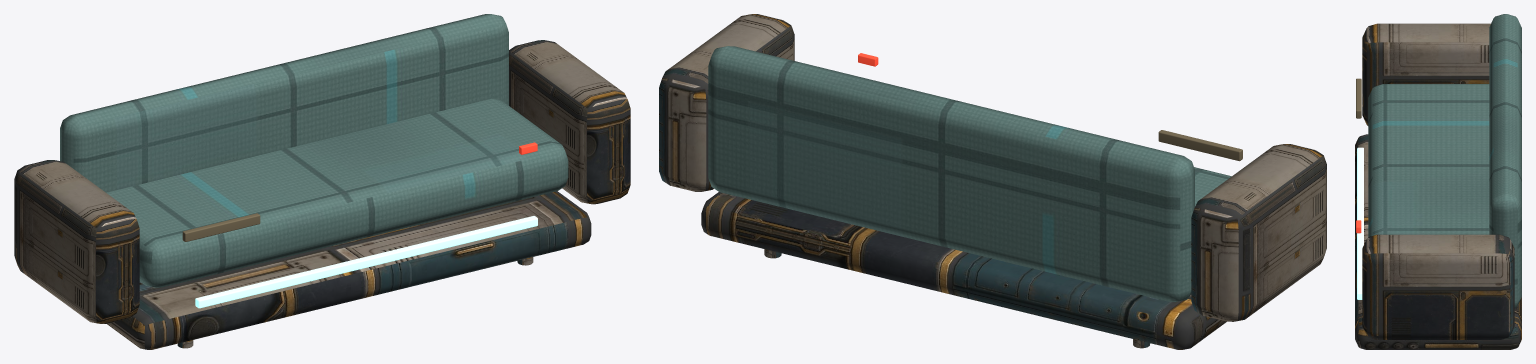
Rendered from hp_room_lounge_sofa_residential.glb.
3 views of the same model, side by side, from view 1: azimuth 30°, elevation 25°; view 2: azimuth 150°, elevation 25°; view 3: azimuth 270°, elevation 25° (orthographic). The views are drawn at different scales.
Visible parts, largest first — view 1: seat_cushion_single_mass, back_rest_broad_low, contact_shadow_plinth, left_arm_block, right_arm_block, under_cyan_service_strip, warm_residential_nameplate_blank; view 2: back_rest_broad_low, contact_shadow_plinth, left_arm_block, right_arm_block, warm_residential_nameplate_blank, seat_cushion_single_mass; view 3: seat_cushion_single_mass, right_arm_block, left_arm_block, back_rest_broad_low, contact_shadow_plinth, under_cyan_service_strip, warm_residential_nameplate_blank.
Boxes of the visible parts, box(x1,y1,x2,y2) form: seat_cushion_single_mass: box(106, 98, 568, 287); back_rest_broad_low: box(60, 14, 508, 192); contact_shadow_plinth: box(107, 191, 591, 349); left_arm_block: box(14, 160, 139, 323); right_arm_block: box(509, 40, 630, 204); under_cyan_service_strip: box(195, 216, 537, 308); warm_residential_nameplate_blank: box(182, 213, 260, 241); back_rest_broad_low: box(708, 46, 1194, 301); contact_shadow_plinth: box(701, 192, 1226, 349); left_arm_block: box(1191, 144, 1326, 321); right_arm_block: box(659, 14, 794, 191); warm_residential_nameplate_blank: box(1158, 130, 1242, 161); seat_cushion_single_mass: box(1194, 167, 1231, 206); seat_cushion_single_mass: box(1368, 84, 1489, 236); right_arm_block: box(1362, 234, 1514, 339); left_arm_block: box(1362, 23, 1490, 125); back_rest_broad_low: box(1489, 14, 1521, 308); contact_shadow_plinth: box(1355, 134, 1521, 349); under_cyan_service_strip: box(1357, 147, 1363, 299); warm_residential_nameplate_blank: box(1356, 78, 1361, 118).
Bounding box in the file's own units: 2.73 × 0.8952 × 0.8233.
6 materials, 3 textured.
